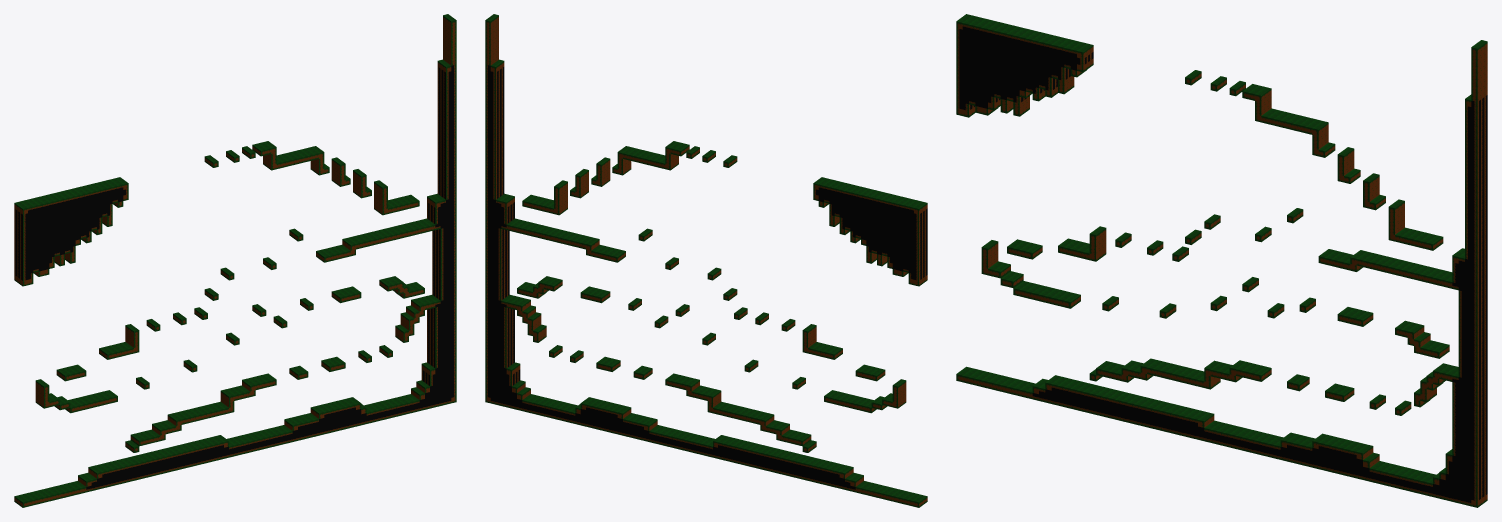
The model's file is Luna0ApplejackSolo.glb.
The picture shows the model from 3 angles, left to right: view 1: azimuth 30°, elevation 25°; view 2: azimuth 150°, elevation 25°; view 3: azimuth 330°, elevation 25°; orthographic projection. The views are drawn at different scales.
Parts seen in each view (by area): view 1: Setor_0, Setor_2, Setor_1; view 2: Setor_0, Setor_2, Setor_1; view 3: Setor_2, Setor_0, Setor_1.
Part boxes in pixels (<box>): Setor_0: <box>14,177,191,507</box>; Setor_2: <box>353,14,456,425</box>; Setor_1: <box>183,141,361,466</box>; Setor_0: <box>750,177,927,507</box>; Setor_2: <box>485,14,588,425</box>; Setor_1: <box>580,141,758,466</box>; Setor_2: <box>1363,40,1487,507</box>; Setor_0: <box>956,14,1169,430</box>; Setor_1: <box>1159,70,1372,479</box>.
Size of the model in its own units: 85.28 by 71.76 by 2.88.
Materials: 1 (1 with a texture image).
